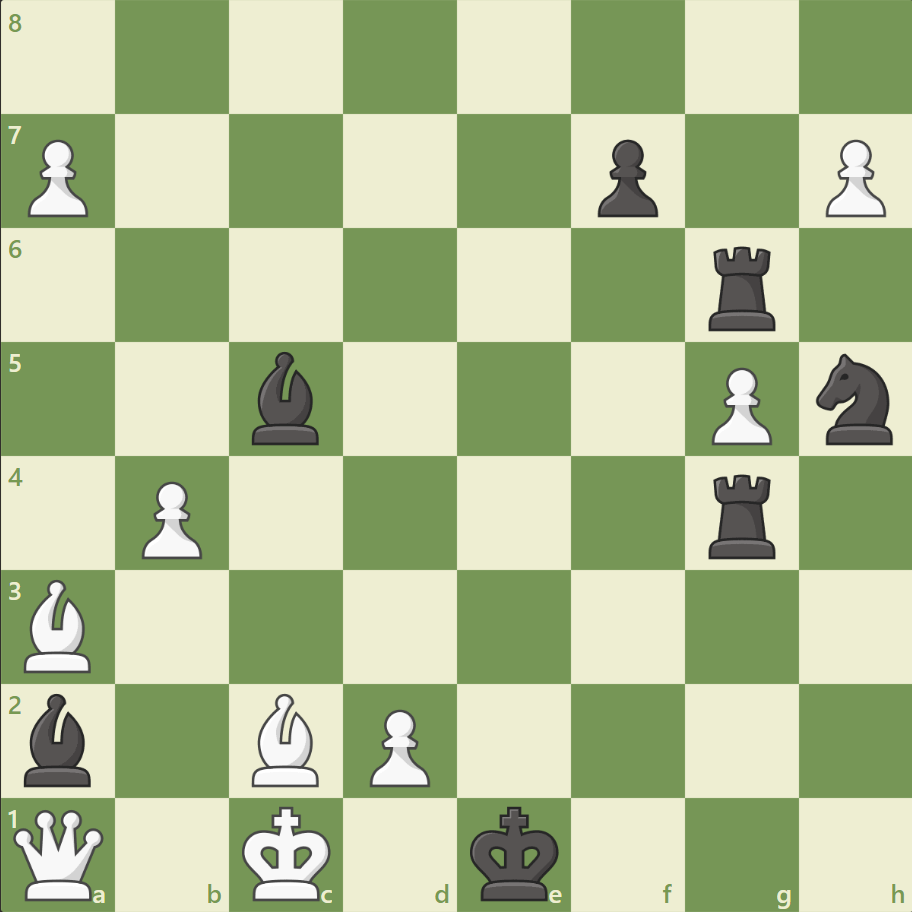B: (244, 687, 328, 790), (17, 574, 101, 676)
K: (238, 798, 338, 906)
P: (20, 132, 95, 223), (701, 359, 776, 450), (133, 473, 208, 564), (815, 132, 889, 223), (361, 700, 435, 791)
Q: (10, 804, 109, 903)
b: (17, 687, 101, 790), (244, 347, 328, 449)
k: (465, 798, 565, 906)
n: (806, 348, 903, 450)
p: (588, 132, 662, 223)
r: (700, 239, 783, 336), (700, 466, 783, 563)
